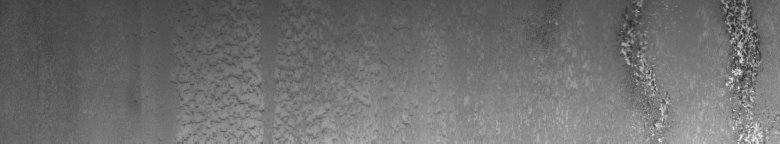hc: (621, 4, 761, 136)
